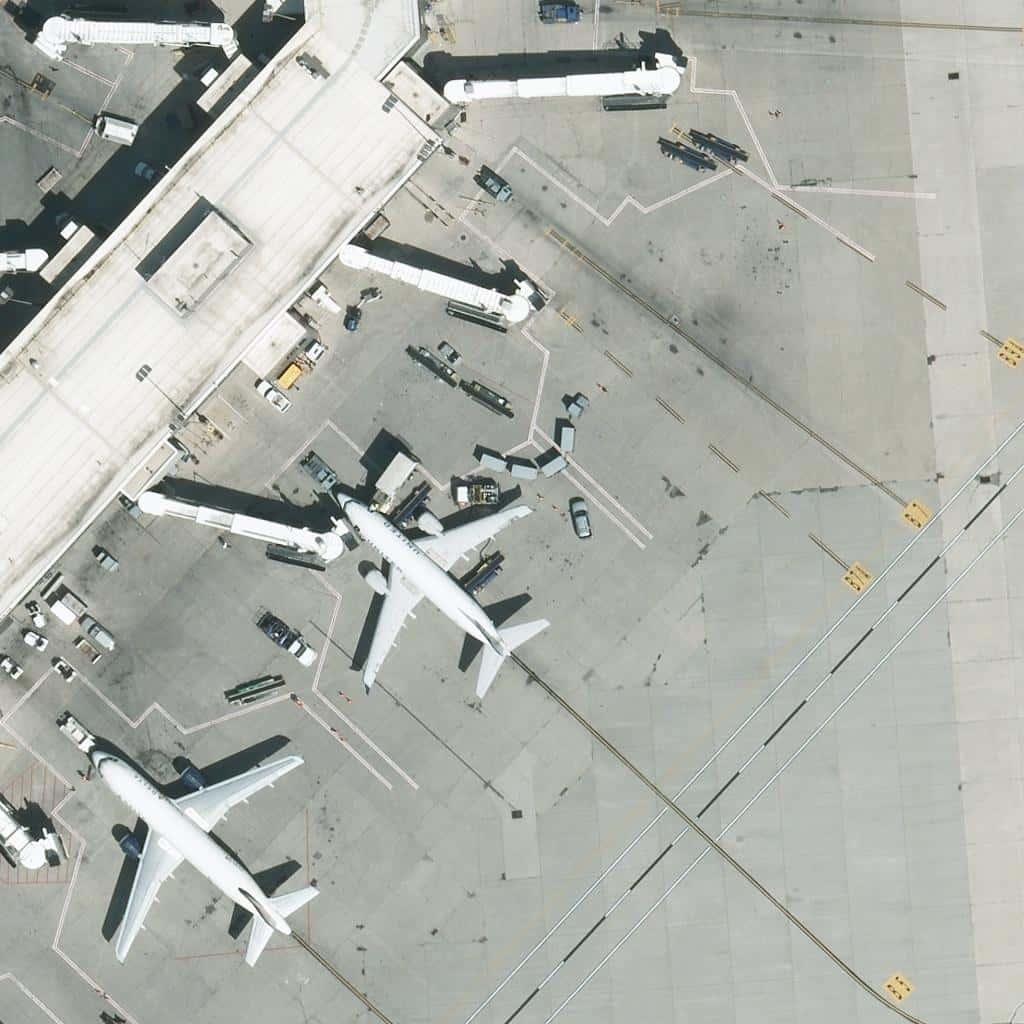plane: (90, 746, 318, 969), (331, 482, 554, 701)
